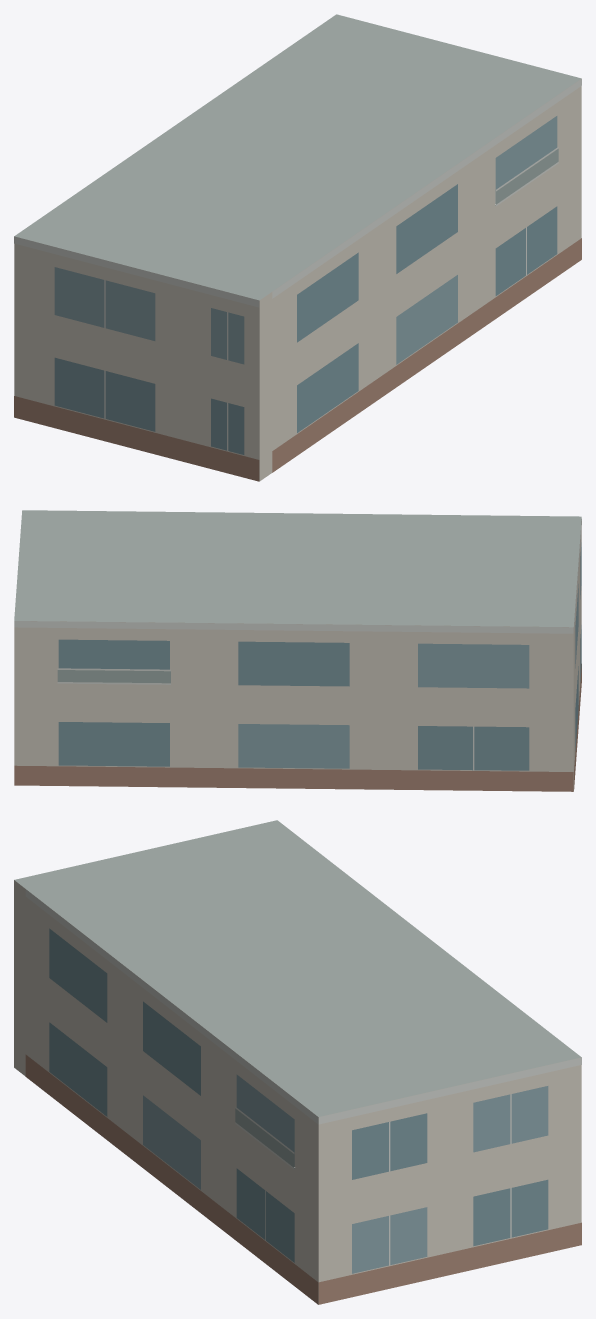
The model's file is survey-upis-32707295.glb.
The picture shows the model from 3 angles, top to bottom: view 1: azimuth 30°, elevation 25°; view 2: azimuth 150°, elevation 25°; view 3: azimuth 270°, elevation 25°; orthographic projection. The views are drawn at different scales.
Visible parts, largest first — view 1: survey-upis-32707295.tmp; view 2: survey-upis-32707295.tmp; view 3: survey-upis-32707295.tmp.
Boxes of the visible parts, x1,y1,x2,y2 form: survey-upis-32707295.tmp: (14,14,581,481); survey-upis-32707295.tmp: (14,510,581,791); survey-upis-32707295.tmp: (14,820,581,1304).
Size of the model in its own units: 20.71 by 6.1 by 16.73.
